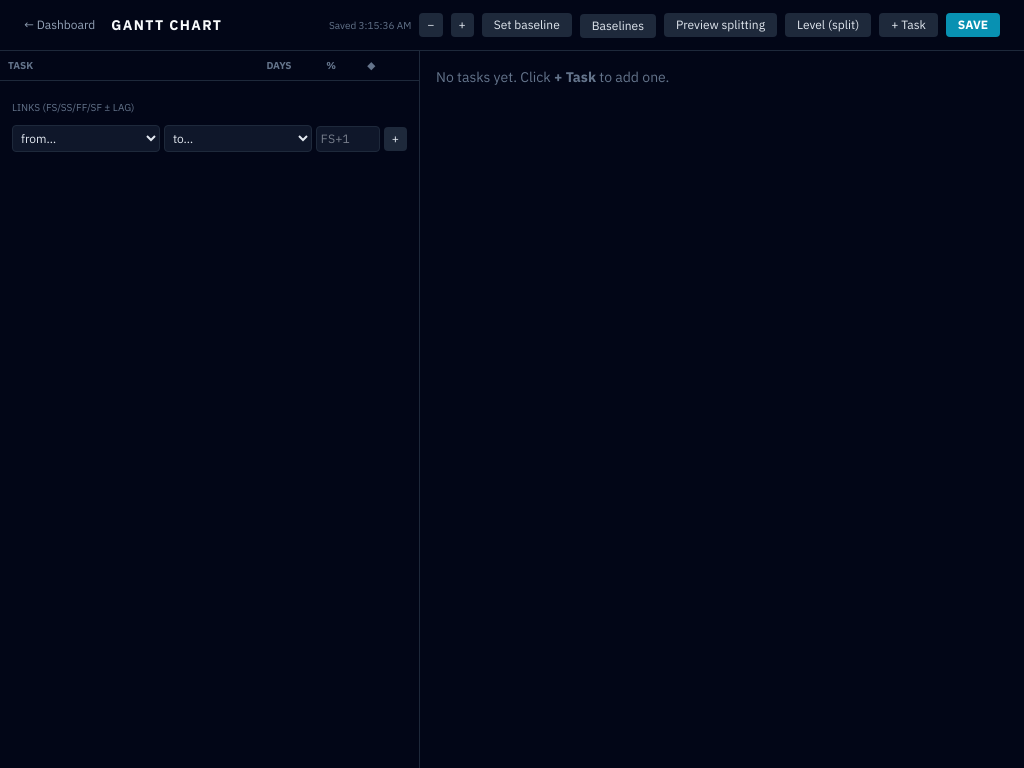
GanttEditor split actions (handler glue) › surfaces a bridge error on the status line instead of throwing
Click the button "Preview splitting" at [720, 25], box top-left (664, 13), bottom-right (777, 37)
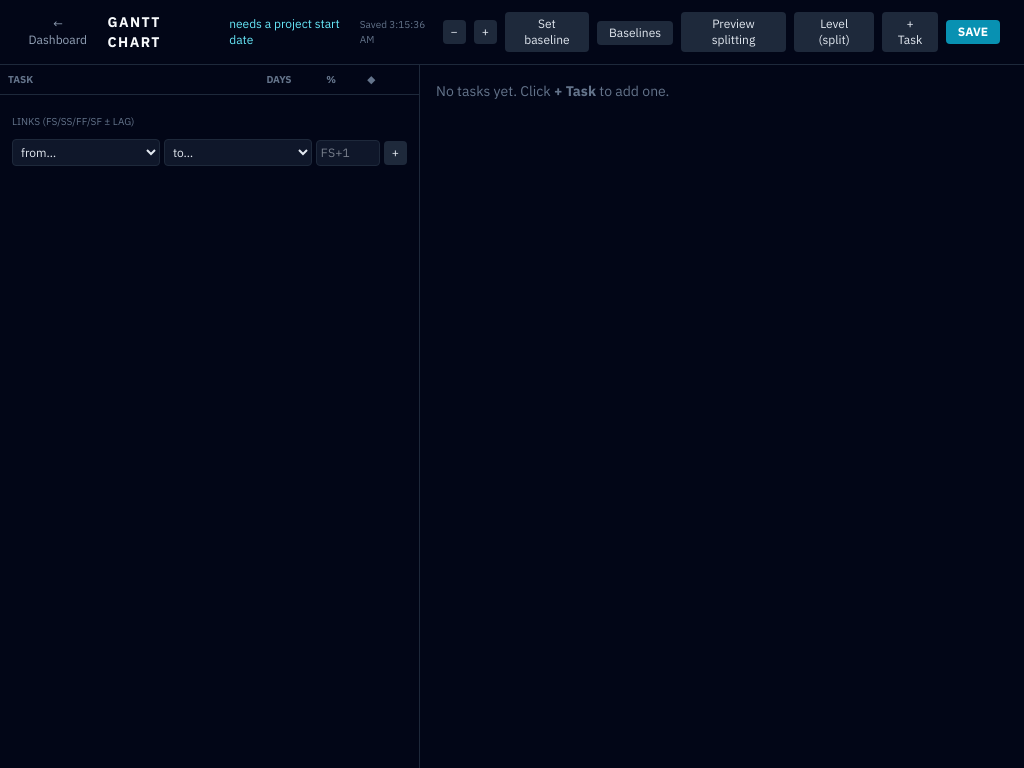
Result: the text "needs a project start date" is shown at top-left (229, 16), bottom-right (340, 47)
